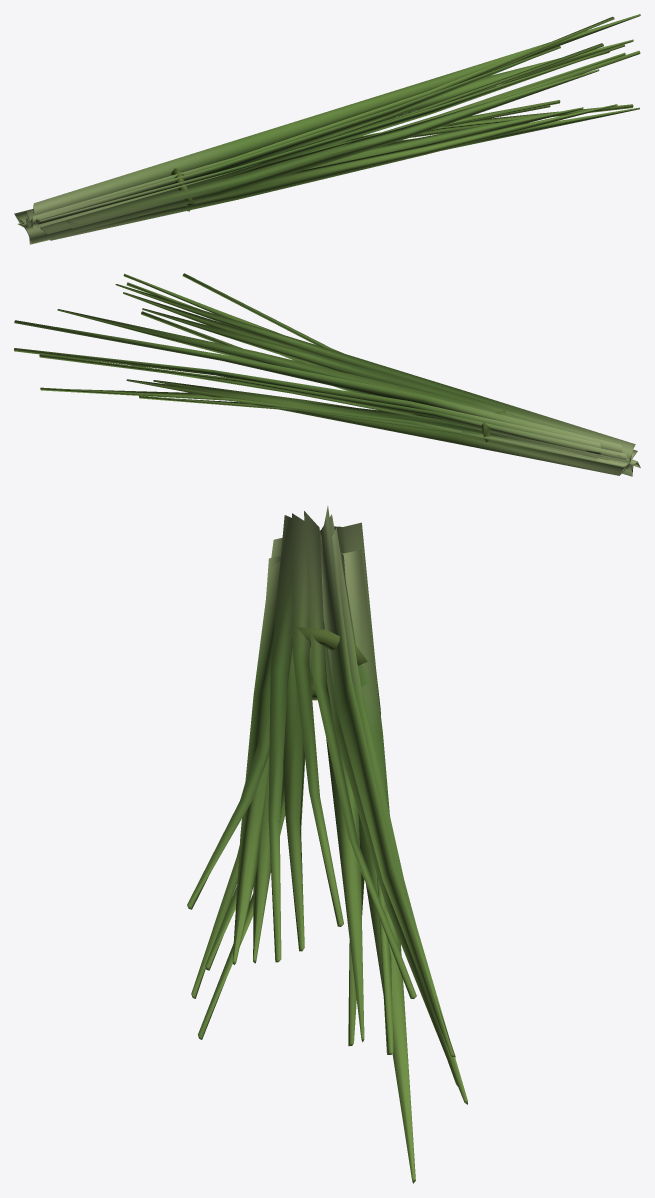
File: grass.glb
3 views of the same model, one above another, from view 1: azimuth 30°, elevation 25°; view 2: azimuth 150°, elevation 25°; view 3: azimuth 270°, elevation 25° (orthographic). The views are drawn at different scales.
Visible parts, largest first — view 1: grass; view 2: grass; view 3: grass.
Part boxes in pixels (bbox=[...]): grass: bbox=[14, 14, 640, 244]; grass: bbox=[14, 273, 640, 476]; grass: bbox=[187, 506, 467, 1183].
Bounding box in the file's own units: 0.4679 × 0.0741 × 0.0971.
